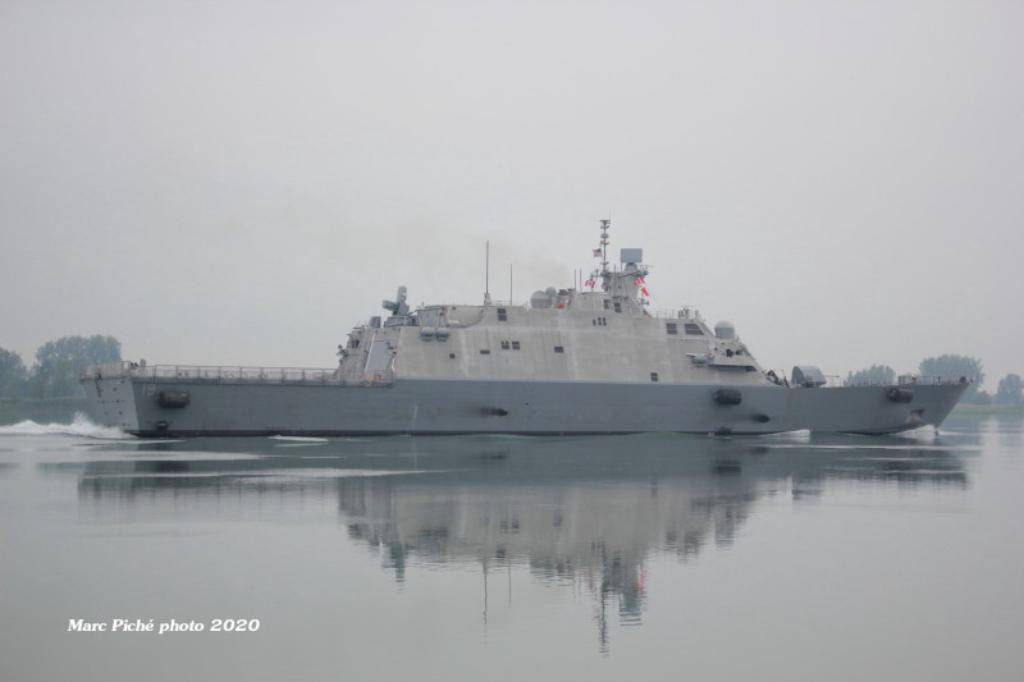Warship: (74, 212, 976, 440)
